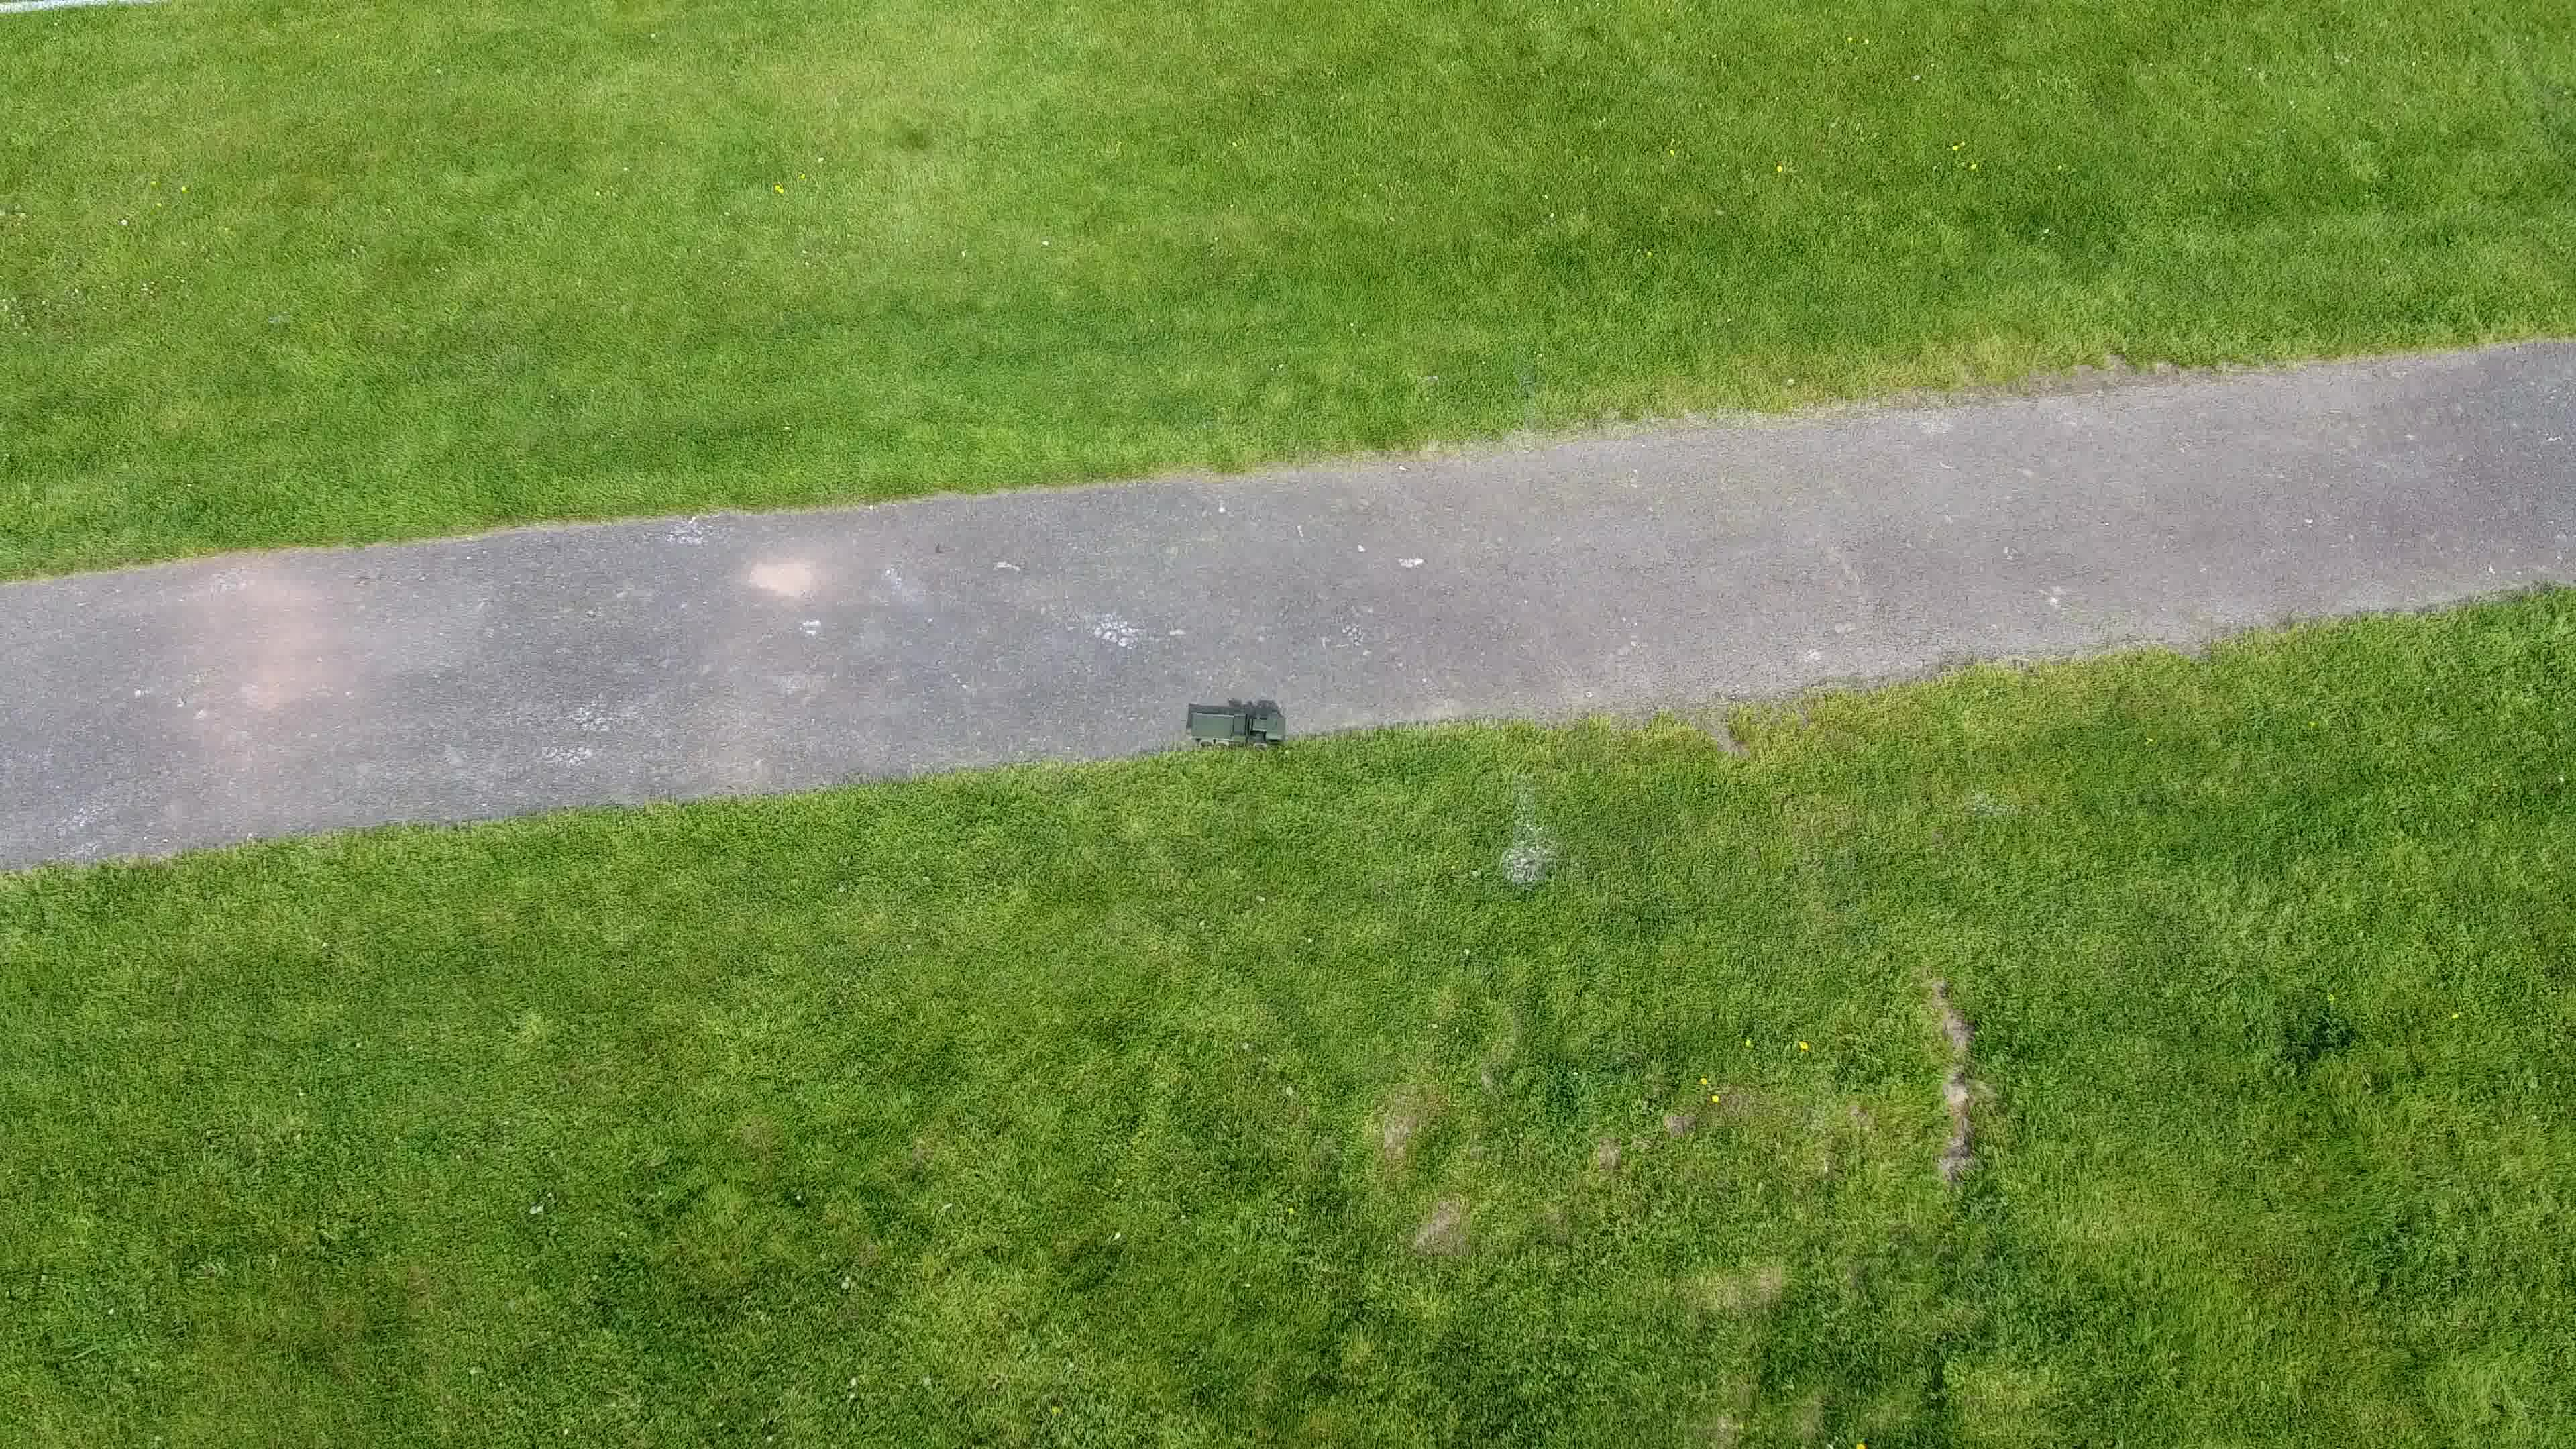transporter9: (1185, 701, 1290, 754)
